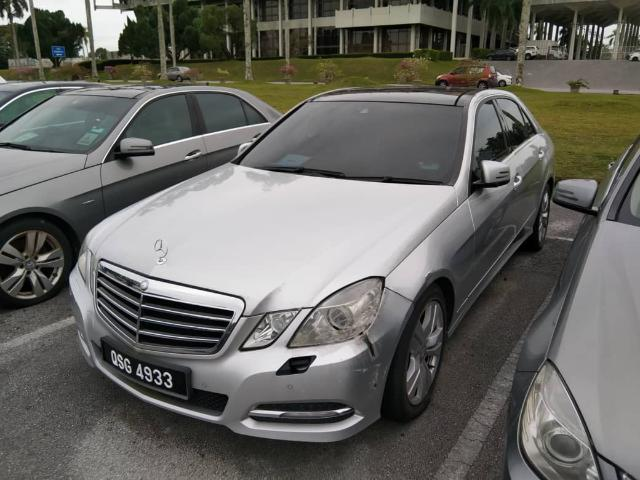License_Plate: (101, 338, 191, 401)
car: (51, 75, 570, 460), (2, 80, 287, 306)
